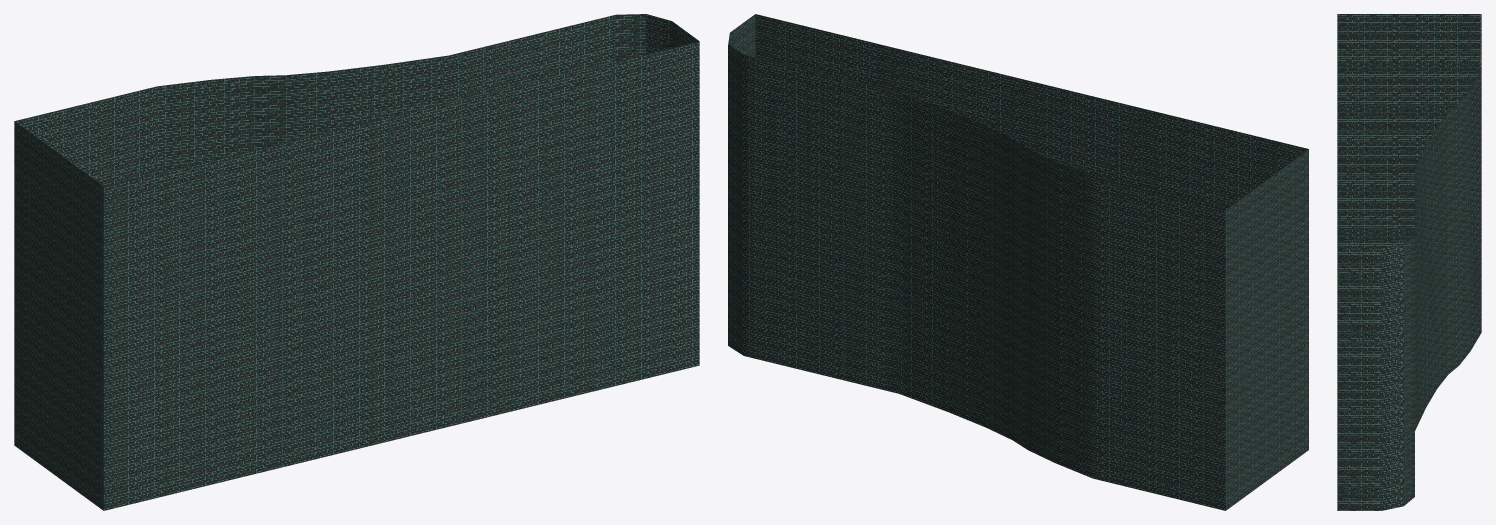
Rendered from r_GHOSTLab.fbx.
3 views of the same model, side by side, from view 1: azimuth 30°, elevation 25°; view 2: azimuth 150°, elevation 25°; view 3: azimuth 270°, elevation 25° (orthographic). The views are drawn at different scales.
Parts seen in each view (by area): view 1: polySurface2; view 2: polySurface2; view 3: polySurface2.
Part boxes in pixels (x1=…): polySurface2: x1=14, y1=14, x2=699, y2=510; polySurface2: x1=728, y1=14, x2=1308, y2=510; polySurface2: x1=1337, y1=14, x2=1481, y2=510.
Size of the model in its own units: 50 by 26 by 13.
